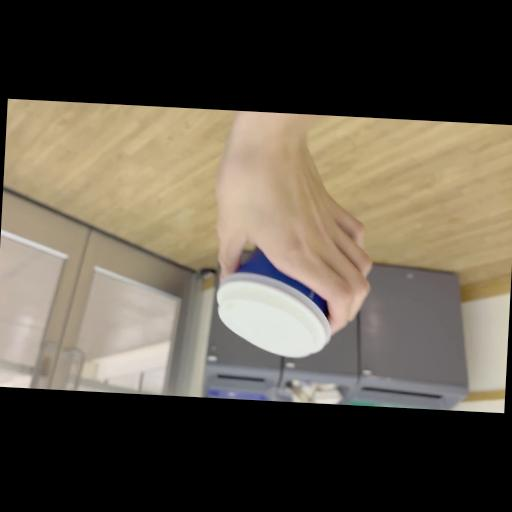lp_paper_cup: (211, 242, 338, 362)
